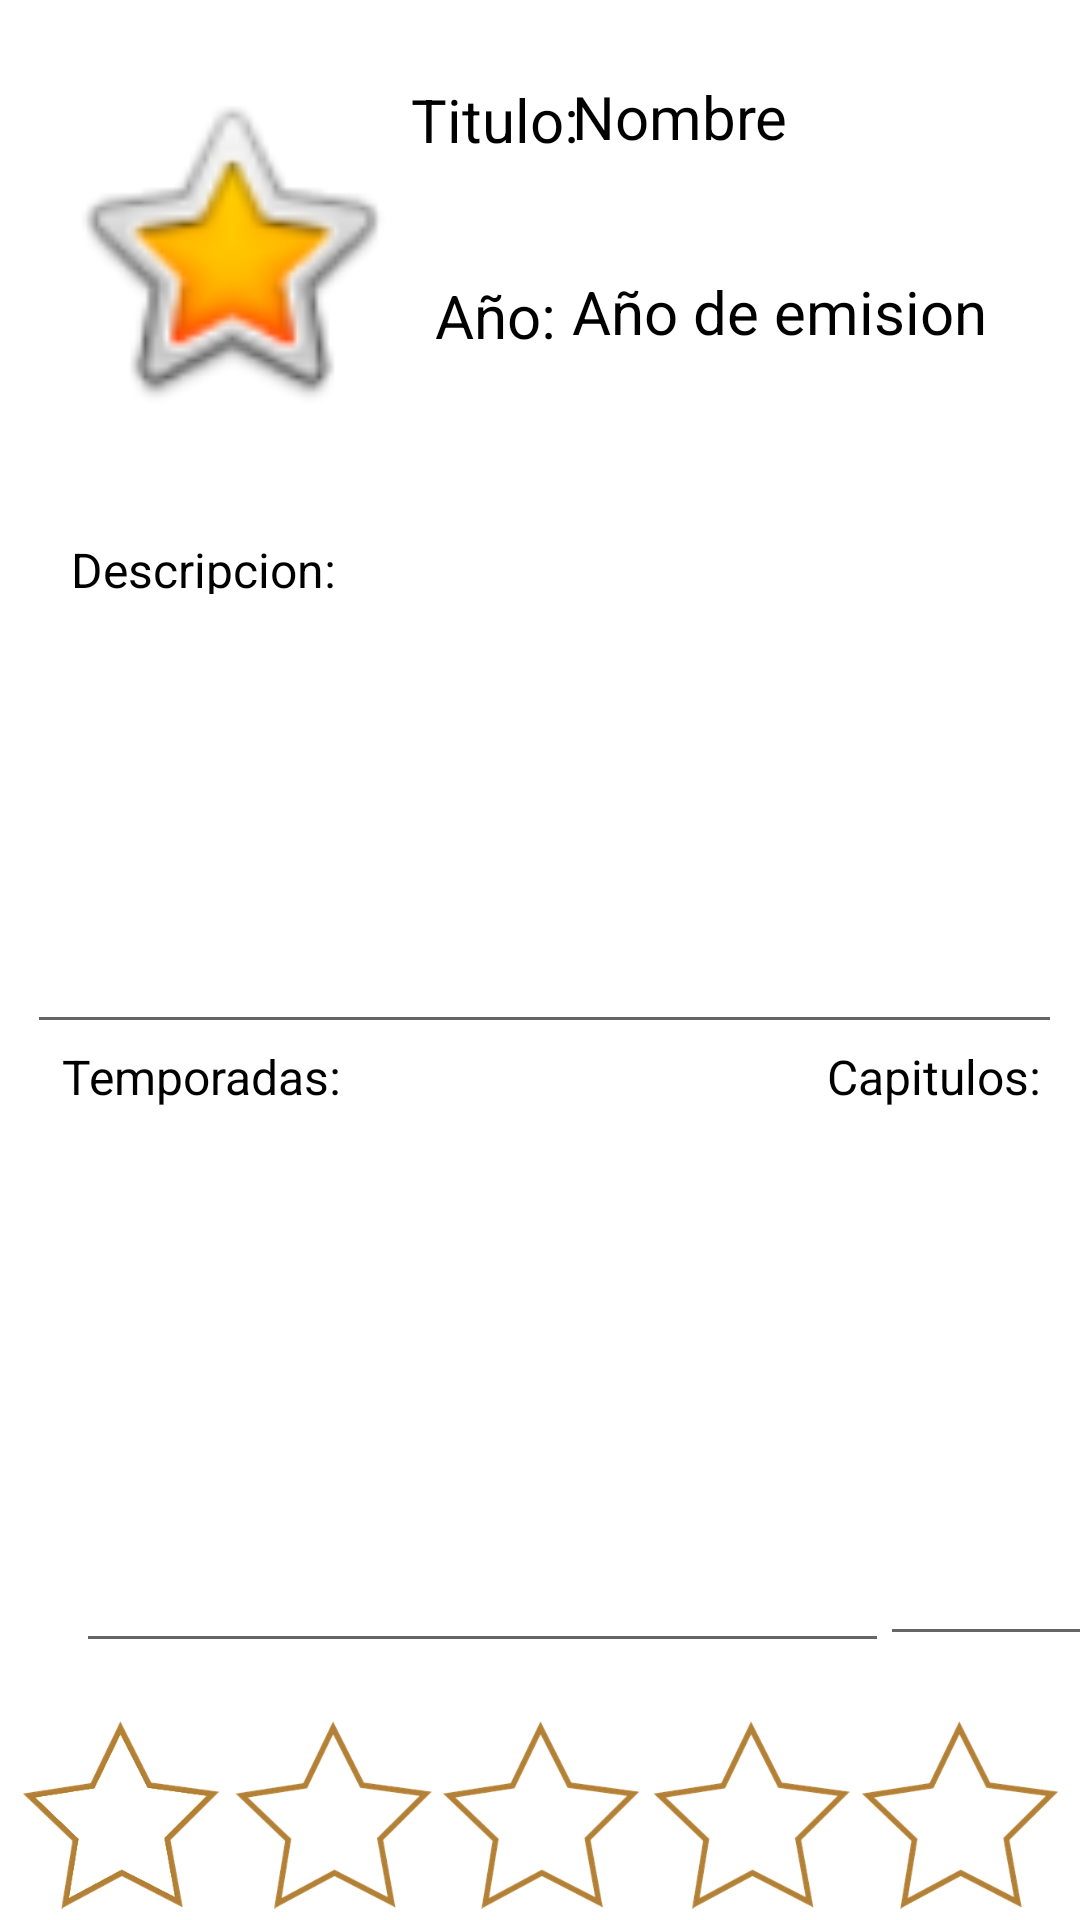

Icon click points for this 1080x1920 phone screenshot, format point (x, y):
star on: point (232, 251)
